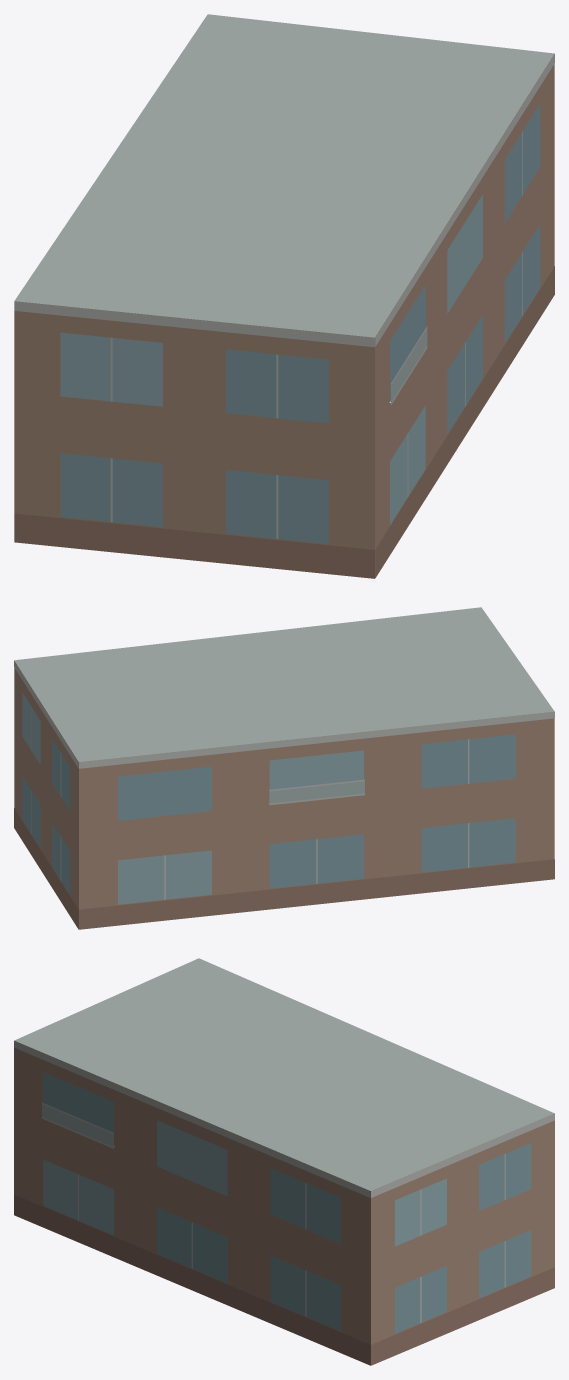
File: survey-upis-32949100.glb
The picture shows the model from 3 angles, top to bottom: view 1: azimuth 30°, elevation 25°; view 2: azimuth 150°, elevation 25°; view 3: azimuth 270°, elevation 25°; orthographic projection. The views are drawn at different scales.
Parts seen in each view (by area): view 1: survey-upis-32949100.tmp; view 2: survey-upis-32949100.tmp; view 3: survey-upis-32949100.tmp.
Boxes of the visible parts, left/top/right/bottom form: survey-upis-32949100.tmp: left=14, top=14, right=554, bottom=578; survey-upis-32949100.tmp: left=14, top=607, right=554, bottom=929; survey-upis-32949100.tmp: left=14, top=958, right=554, bottom=1365.
Size of the model in its own units: 17.46 by 6.1 by 17.13.
